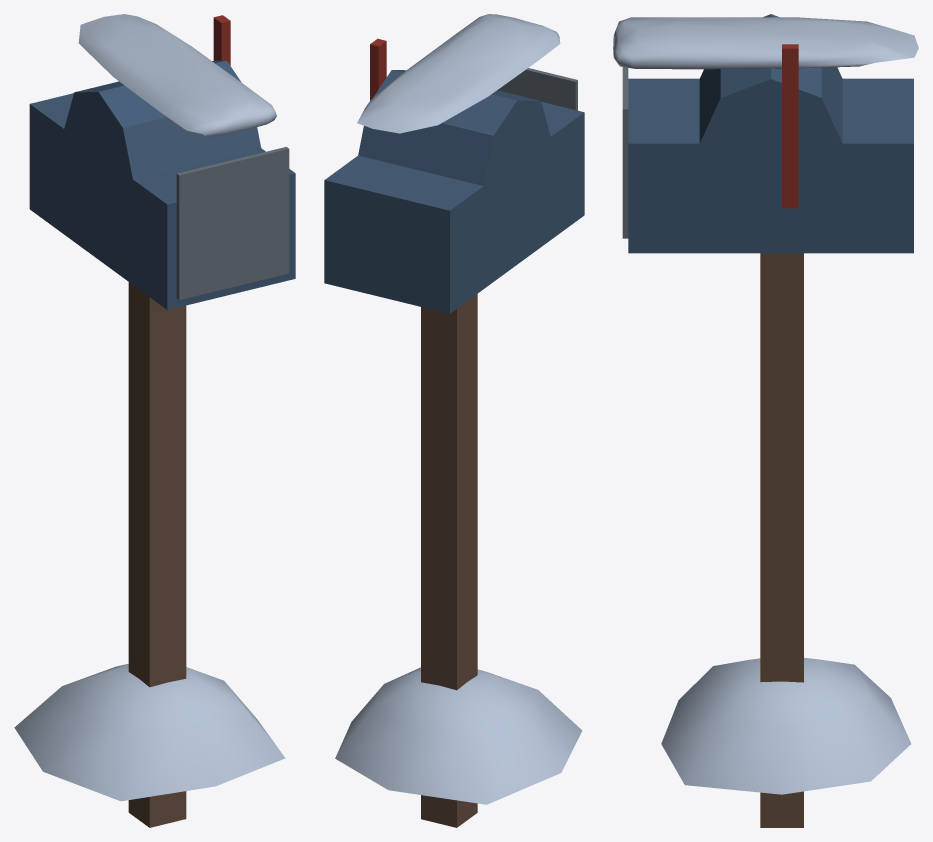
The model's file is mailbox.glb.
3 renders of one model, left to right at view 1: azimuth 30°, elevation 25°; view 2: azimuth 150°, elevation 25°; view 3: azimuth 270°, elevation 25°, orthographic. The views are drawn at different scales.
Parts seen in each view (by area): view 1: Prop; view 2: Prop; view 3: Prop.
Part boxes in pixels (x1,y1,x2,y2): Prop: (14, 14, 295, 827); Prop: (324, 14, 584, 827); Prop: (613, 14, 918, 827).
Size of the model in its own units: 0.468 by 1.62 by 0.5563.
